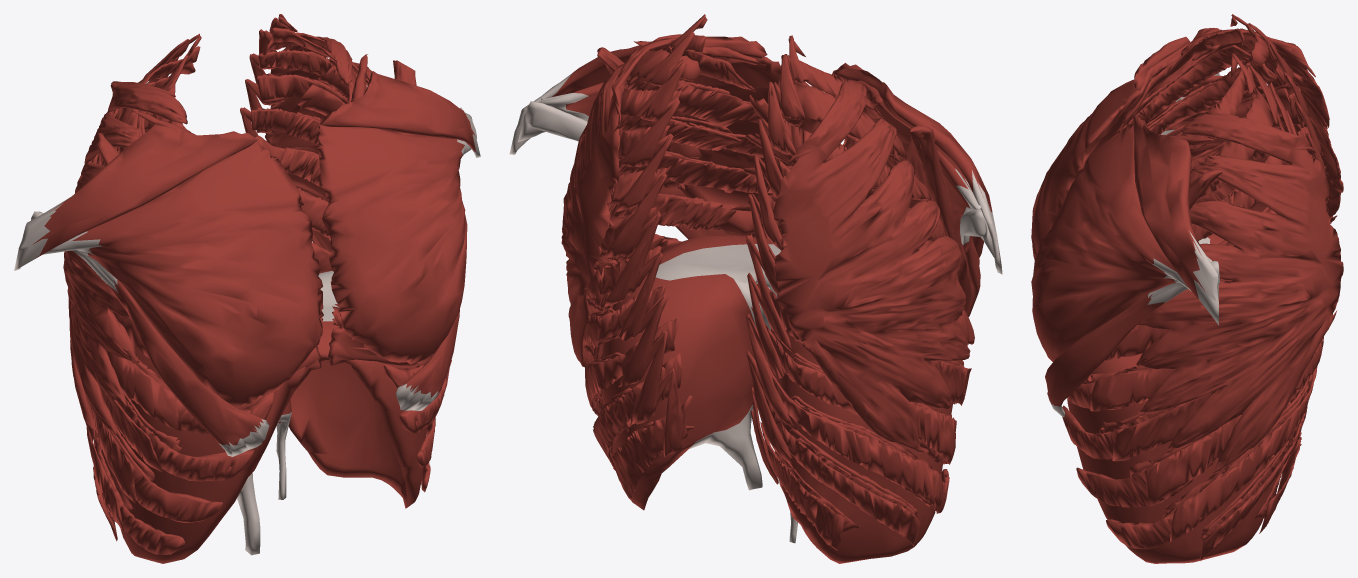
File: muscles-thorax.glb
The picture shows the model from 3 angles, left to right: view 1: azimuth 30°, elevation 25°; view 2: azimuth 150°, elevation 25°; view 3: azimuth 270°, elevation 25°; orthographic projection. The views are drawn at different scales.
Parts seen in each view (by area): view 1: muscle-sternocostal-head-of-pectoralis-major-muscle-r, muscle-sternocostal-head-of-pectoralis-major-muscle-l, muscle-diaphragm, muscle-serratus-anterior-muscle-r, muscle-clavicular-head-of-pectoralis-major-muscle-r, muscle-external-intercostal-muscles-r, muscle-internal-intercostal-muscles-r, muscle-abdominal-part-of-pectoralis-major-muscle-r, muscle-clavicular-head-of-pectoralis-major-muscle-l, muscle-external-intercostal-muscles-l, muscle-innermost-intercostal-muscles-l, muscle-serratus-anterior-muscle-l (+6 smaller); view 2: muscle-serratus-anterior-muscle-r, muscle-diaphragm, muscle-external-intercostal-muscles-r, muscle-external-intercostal-muscles-l, muscle-levatores-longi-costarum-l, muscle-innermost-intercostal-muscles-l, muscle-serratus-anterior-muscle-l, muscle-levatores-longi-costarum-r, muscle-sternocostal-head-of-pectoralis-major-muscle-l, muscle-clavicular-head-of-pectoralis-major-muscle-r, muscle-clavicular-head-of-pectoralis-major-muscle-l, muscle-sternocostal-head-of-pectoralis-major-muscle-r (+11 smaller); view 3: muscle-serratus-anterior-muscle-l, muscle-external-intercostal-muscles-l, muscle-sternocostal-head-of-pectoralis-major-muscle-l, muscle-clavicular-head-of-pectoralis-major-muscle-l, muscle-diaphragm, muscle-internal-intercostal-muscles-l, muscle-innermost-intercostal-muscles-r, muscle-sternocostal-head-of-pectoralis-major-muscle-r, muscle-serratus-anterior-muscle-r, muscle-abdominal-part-of-pectoralis-major-muscle-l, muscle-external-intercostal-muscles-r, muscle-innermost-intercostal-muscles-l (+6 smaller).
Boxes of the visible parts, bbox=[...] form: muscle-sternocostal-head-of-pectoralis-major-muscle-r: bbox=[43, 141, 323, 408]; muscle-sternocostal-head-of-pectoralis-major-muscle-l: bbox=[317, 125, 471, 364]; muscle-diaphragm: bbox=[116, 270, 430, 563]; muscle-serratus-anterior-muscle-r: bbox=[63, 81, 187, 444]; muscle-clavicular-head-of-pectoralis-major-muscle-r: bbox=[14, 124, 257, 270]; muscle-external-intercostal-muscles-r: bbox=[86, 46, 200, 541]; muscle-internal-intercostal-muscles-r: bbox=[89, 110, 273, 554]; muscle-abdominal-part-of-pectoralis-major-muscle-r: bbox=[31, 211, 269, 456]; muscle-clavicular-head-of-pectoralis-major-muscle-l: bbox=[320, 71, 480, 157]; muscle-external-intercostal-muscles-l: bbox=[251, 27, 451, 403]; muscle-innermost-intercostal-muscles-l: bbox=[280, 57, 433, 357]; muscle-serratus-anterior-muscle-l: bbox=[265, 36, 372, 252]; muscle-serratus-anterior-muscle-r: bbox=[773, 78, 970, 453]; muscle-diaphragm: bbox=[601, 235, 952, 563]; muscle-external-intercostal-muscles-r: bbox=[751, 55, 974, 550]; muscle-external-intercostal-muscles-l: bbox=[582, 35, 755, 500]; muscle-levatores-longi-costarum-l: bbox=[604, 14, 705, 456]; muscle-innermost-intercostal-muscles-l: bbox=[589, 77, 753, 453]; muscle-serratus-anterior-muscle-l: bbox=[561, 37, 677, 367]; muscle-levatores-longi-costarum-r: bbox=[746, 35, 808, 484]; muscle-sternocostal-head-of-pectoralis-major-muscle-l: bbox=[517, 57, 820, 238]; muscle-clavicular-head-of-pectoralis-major-muscle-r: bbox=[832, 63, 1002, 274]; muscle-clavicular-head-of-pectoralis-major-muscle-l: bbox=[509, 34, 767, 154]; muscle-sternocostal-head-of-pectoralis-major-muscle-r: bbox=[832, 74, 994, 283]; muscle-serratus-anterior-muscle-l: bbox=[1136, 111, 1343, 474]; muscle-external-intercostal-muscles-l: bbox=[1090, 69, 1323, 560]; muscle-sternocostal-head-of-pectoralis-major-muscle-l: bbox=[1031, 124, 1218, 361]; muscle-clavicular-head-of-pectoralis-major-muscle-l: bbox=[1133, 115, 1218, 325]; muscle-diaphragm: bbox=[1067, 234, 1286, 563]; muscle-internal-intercostal-muscles-l: bbox=[1062, 154, 1312, 549]; muscle-innermost-intercostal-muscles-r: bbox=[1129, 45, 1305, 203]; muscle-sternocostal-head-of-pectoralis-major-muscle-r: bbox=[1031, 76, 1182, 259]; muscle-serratus-anterior-muscle-r: bbox=[1165, 28, 1343, 223]; muscle-abdominal-part-of-pectoralis-major-muscle-l: bbox=[1045, 261, 1219, 417]; muscle-external-intercostal-muscles-r: bbox=[1116, 28, 1326, 184]; muscle-innermost-intercostal-muscles-l: bbox=[1082, 145, 1308, 533].
Bounding box in the file's own units: 0.3994 × 0.4145 × 0.2368.
